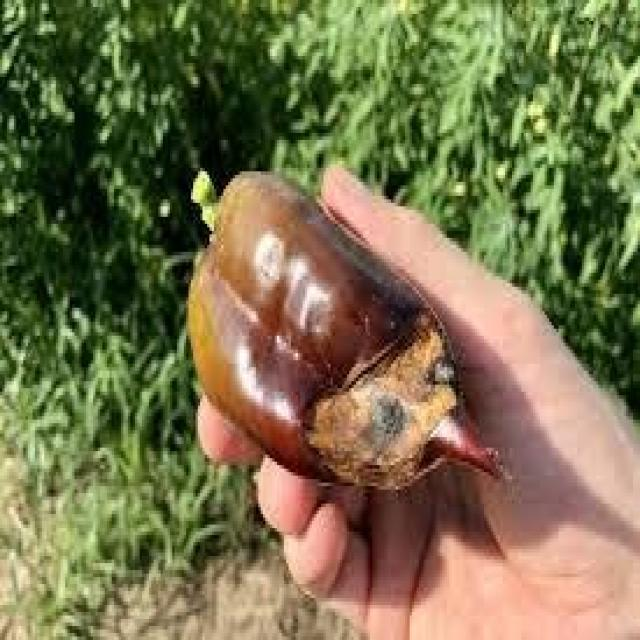Wet Waste: (183, 164, 508, 512)
